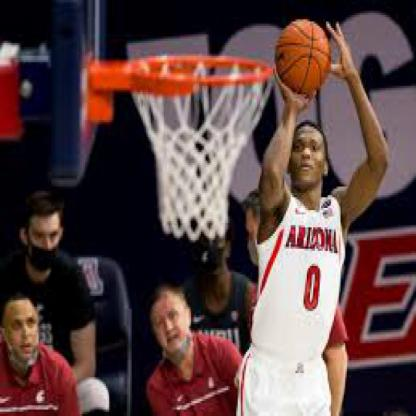basketball: (275, 17, 331, 90)
rim: (98, 50, 273, 94)
